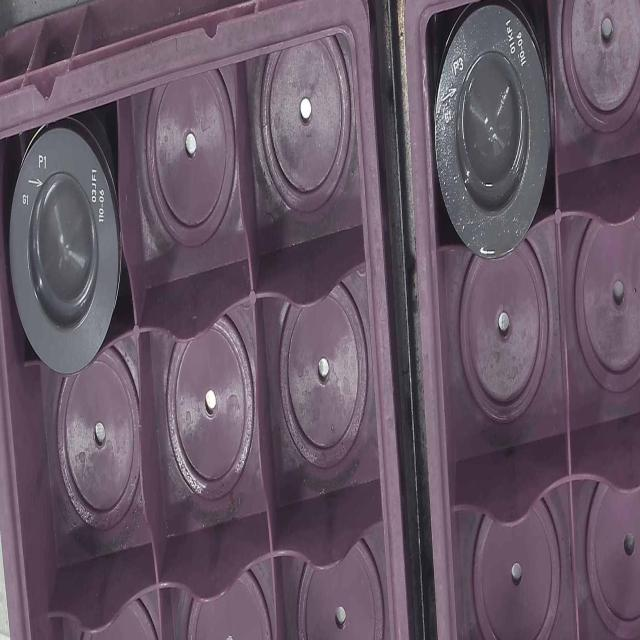P1: (11, 140, 120, 356)
P3: (435, 17, 550, 253)
